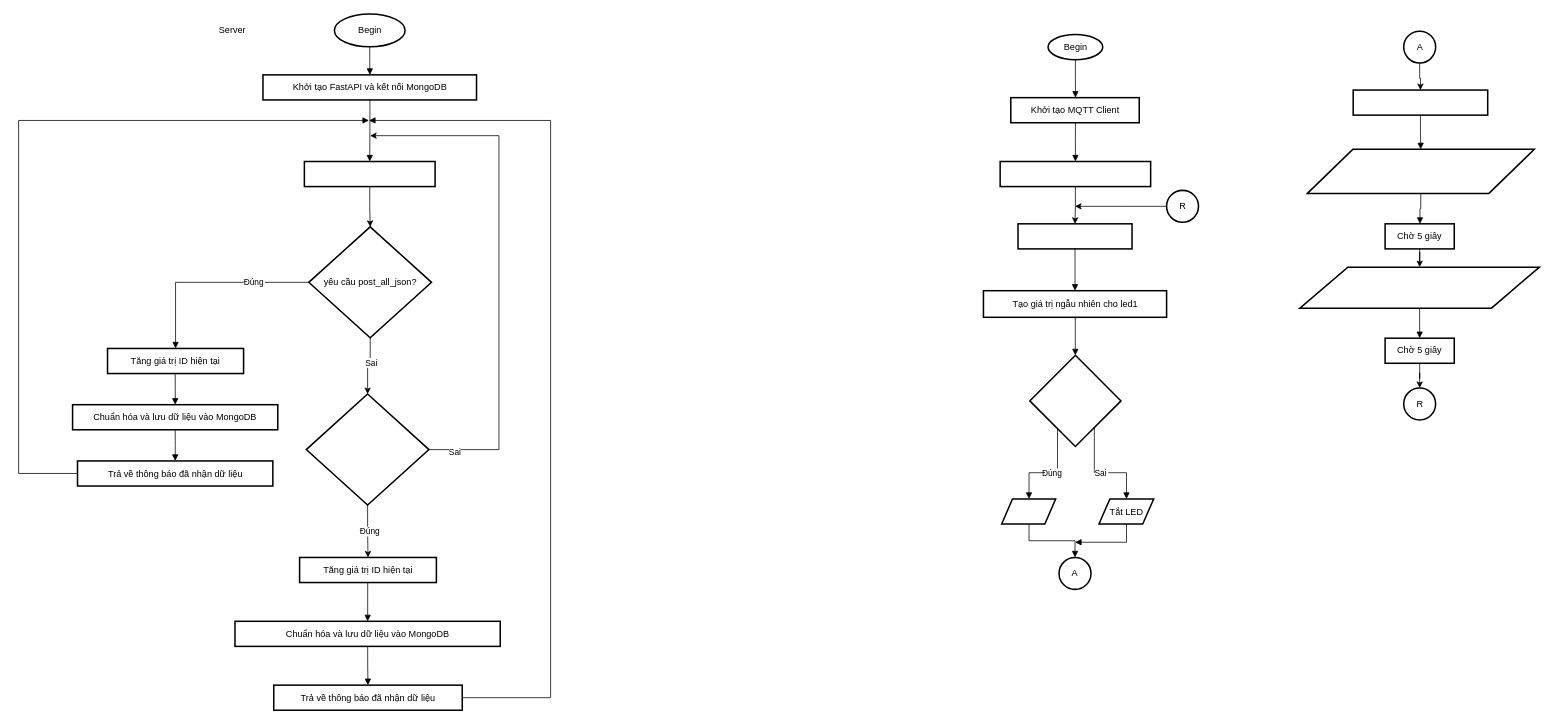
This 1553x724 diagram has some shape labels left out. The shapes that lost their labels are listed below. From the top down, each one's centre as x and y in pixels, then its label:
At (1420,102): "Chuẩn hóa dữ liệu".
At (369,173): "Chờ yêu cầu từ client".
At (1075,173): "Kết nối đến MQTT Broker".
At (1420,171): "Publish dữ liệu tới 'post_all_json'".
At (1074,236): "Đọc cảm biến DHT".
At (1419,287): "Publish dữ liệu tới 'post_all_url'".
At (1075,400): "led1 == 1?".
At (367,449): "yêu cầu post_all_url?".
At (1028,511): "Bật LED".
